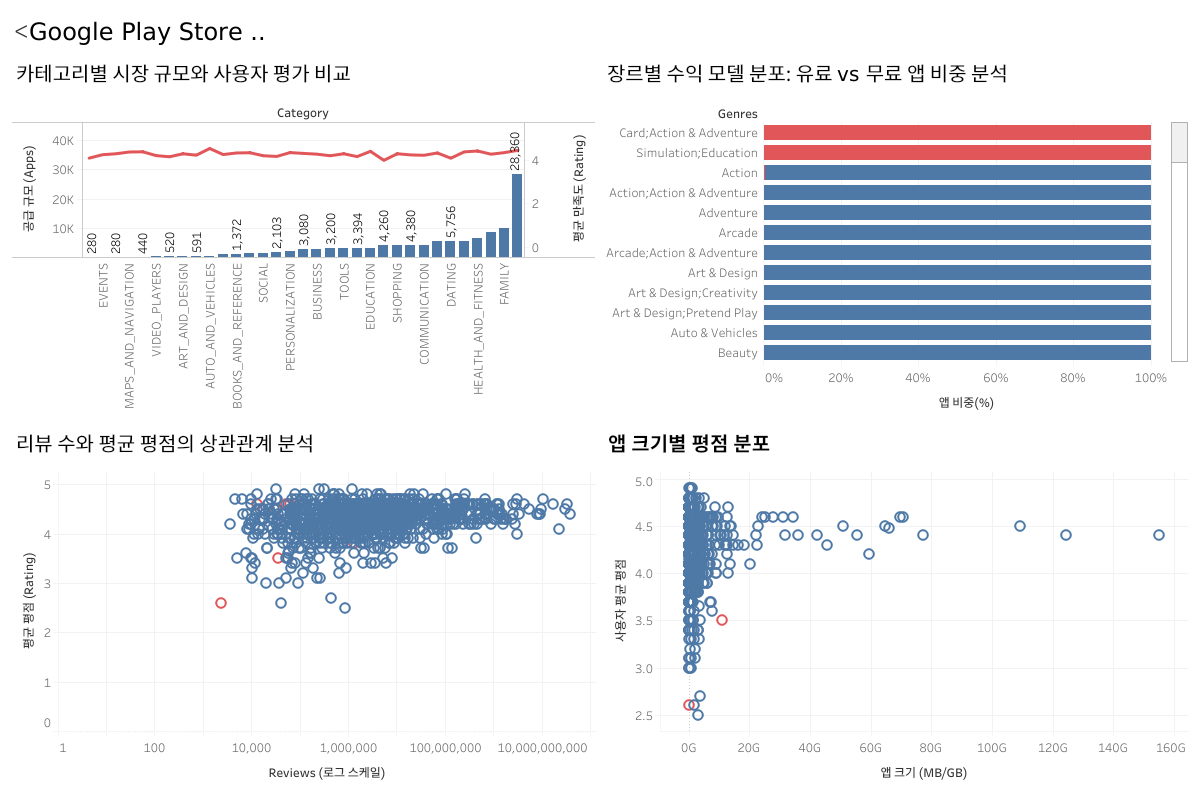

Layout of this report page (visuals, bound fields, positions):
{"tool":"tableau","page":{"name":"대시보드 1","canvas":[650,860],"ordinal":0},"visuals":[{"type":"title","box":[8,9.3,634,48.8]},{"type":"worksheet","title":"1.카테고리별 앱 수 & 평균 평점","mark":"Bar","rows":["App","Rating"],"cols":["Category"],"box":[8,58.1,316.5,396.3]},{"type":"worksheet","title":"2.장르별 유료/무료 비율","mark":"Automatic","rows":["Genres"],"box":[324.5,58.1,317.5,396.3]},{"type":"worksheet","title":"3.리뷰 수와 평균 평점의 상관관계 분석","mark":"Automatic","rows":["Rating"],"cols":["Reviews"],"box":[8,454.4,317,396.3]},{"type":"worksheet","title":"4. 앱 크기별 평점 분포","mark":"Automatic","rows":["Rating"],"cols":["Size"],"box":[325,454.4,317,396.3]}]}

Visuals, with their boxes on the page's 650x860 design canvas (x1, y1, x2, y2). These are canvas units, not pixel positions in the 1199x799 screenshot, which may show the page scaled, cropped or inside an application window:
title: <bbox>8, 9, 642, 58</bbox>
"1.카테고리별 앱 수 & 평균 평점" worksheet (Bar marks): <bbox>8, 58, 324, 454</bbox>
"2.장르별 유료/무료 비율" worksheet: <bbox>324, 58, 642, 454</bbox>
"3.리뷰 수와 평균 평점의 상관관계 분석" worksheet: <bbox>8, 454, 325, 851</bbox>
"4. 앱 크기별 평점 분포" worksheet: <bbox>325, 454, 642, 851</bbox>
